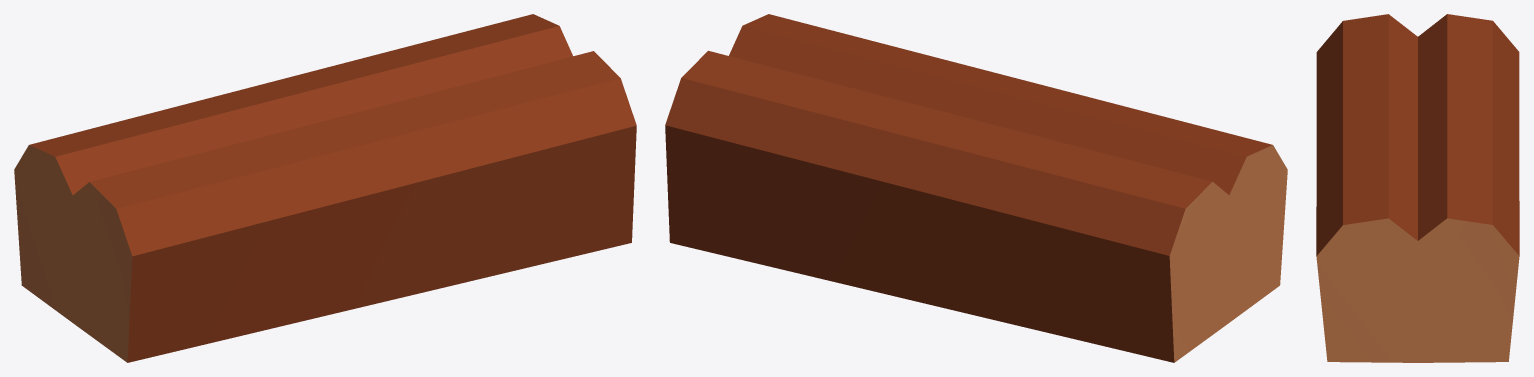
The model's file is Bread01.fbx.
3 views of the same model, side by side, from view 1: azimuth 30°, elevation 25°; view 2: azimuth 150°, elevation 25°; view 3: azimuth 270°, elevation 25° (orthographic). The views are drawn at different scales.
Parts seen in each view (by area): view 1: Cylinder008; view 2: Cylinder008; view 3: Cylinder008.
Part boxes in pixels (bbox=[...]): Cylinder008: bbox=[14, 14, 636, 362]; Cylinder008: bbox=[665, 14, 1287, 362]; Cylinder008: bbox=[1316, 14, 1519, 362].
Bounding box in the file's own units: 46.6 × 14.68 × 18.84.
